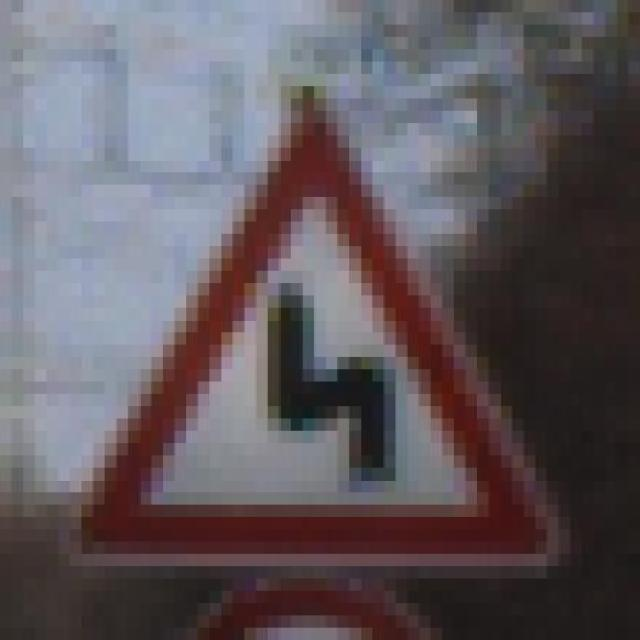Left Zig Zag Traffic: (70, 62, 558, 590)
